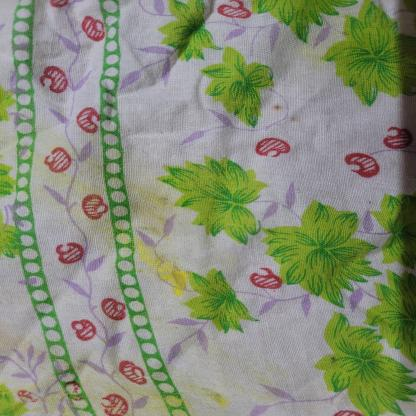spot: (17, 82, 237, 319), (265, 89, 308, 130)
